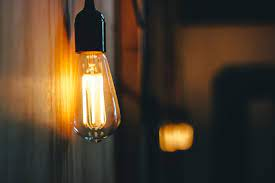bulb: (72, 44, 122, 148)
